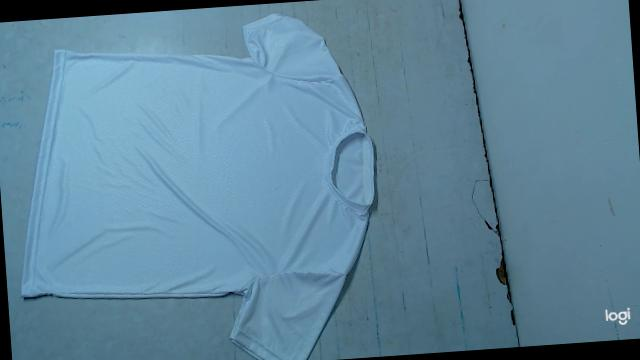new-garment: (21, 13, 375, 360)
